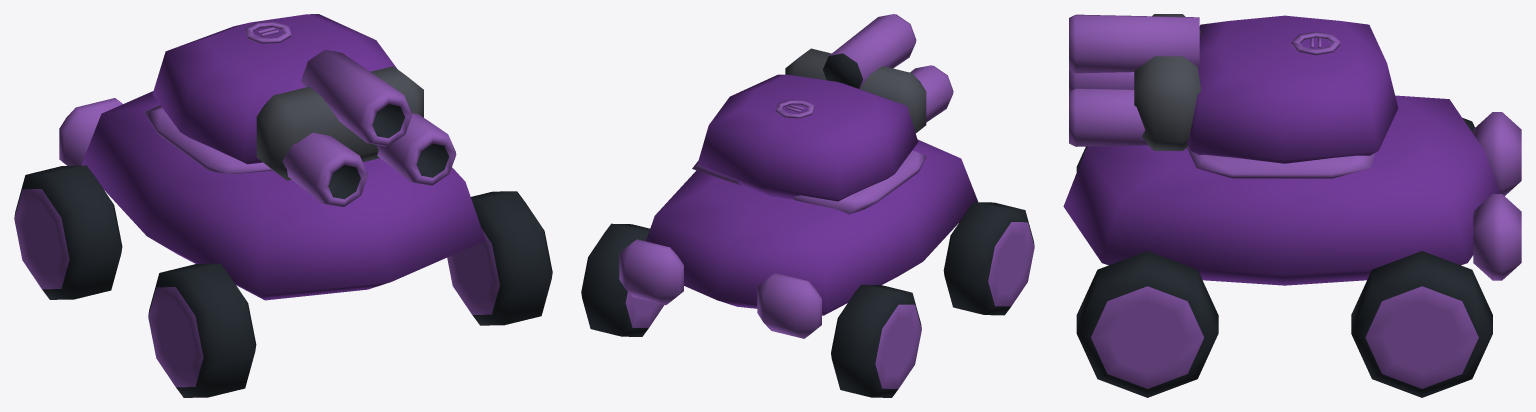
The model's file is TOY_SWARMER.far.glb.
The picture shows the model from 3 angles, left to right: view 1: azimuth 30°, elevation 25°; view 2: azimuth 150°, elevation 25°; view 3: azimuth 270°, elevation 25°; orthographic projection. The views are drawn at different scales.
Parts seen in each view (by area): view 1: Body, WheelsFront, BarrelRecoil, TurretYaw, WheelsRear; view 2: Body, TurretYaw, WheelsRear, BarrelRecoil, WheelsFront; view 3: Body, TurretYaw, BarrelRecoil, WheelsRear, WheelsFront.
Boxes of the visible parts, box(x1,y1,x2,y2) form: Body: box(59, 91, 485, 300); WheelsFront: box(148, 191, 552, 397); BarrelRecoil: box(256, 49, 456, 207); TurretYaw: box(143, 14, 396, 174); WheelsRear: box(14, 165, 122, 299); Body: box(619, 139, 978, 338); TurretYaw: box(692, 74, 926, 214); WheelsRear: box(581, 223, 921, 397); BarrelRecoil: box(785, 14, 953, 133); WheelsFront: box(943, 202, 1034, 315); Body: box(1063, 95, 1521, 285); TurretYaw: box(1186, 15, 1398, 178); BarrelRecoil: box(1069, 14, 1200, 150); WheelsRear: box(1351, 118, 1492, 397); WheelsFront: box(1076, 146, 1218, 397).
Size of the model in its own units: 0.728 by 0.581 by 0.8069.
